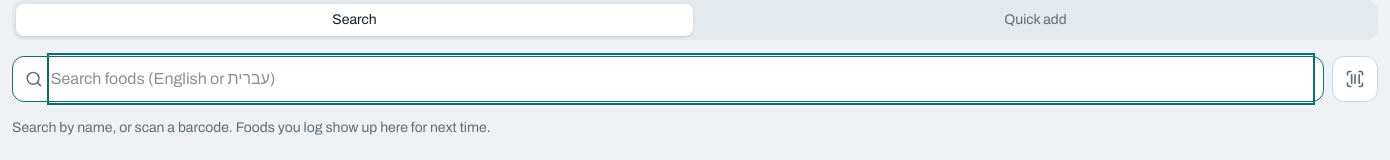
Test case: AddFood › asks for three letters
Type "hu" into the search field labelled "Search foods" at [681, 79], box left=51, top=57, right=1311, bottom=101
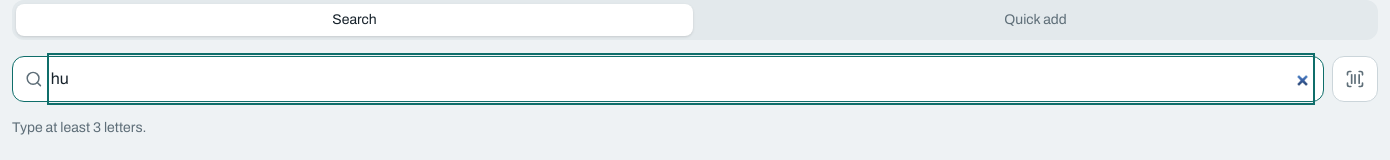
expect the text "Type at least 3 letters." is shown: met, box left=12, top=120, right=146, bottom=135
